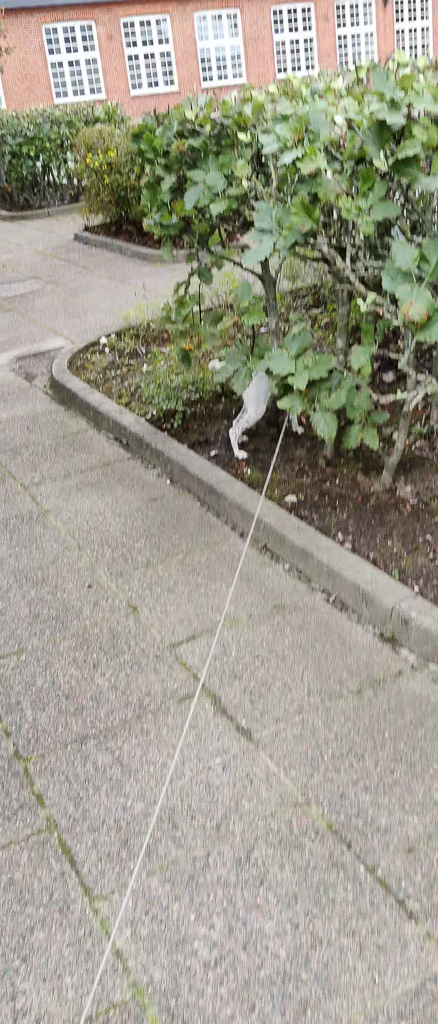Dog: (201, 347, 322, 465)
